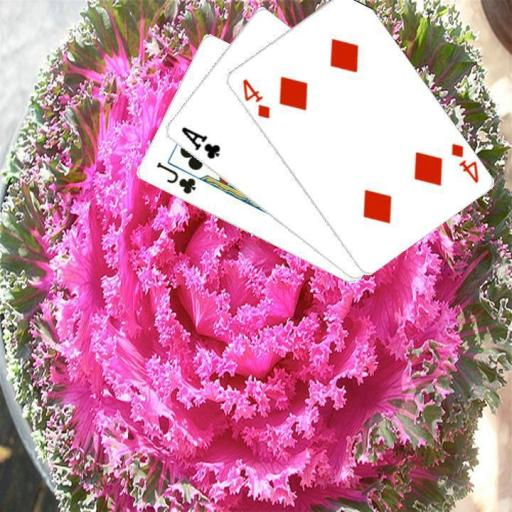card-corner: (178, 123, 222, 161), (152, 159, 197, 196), (447, 139, 480, 185), (238, 76, 272, 120)
